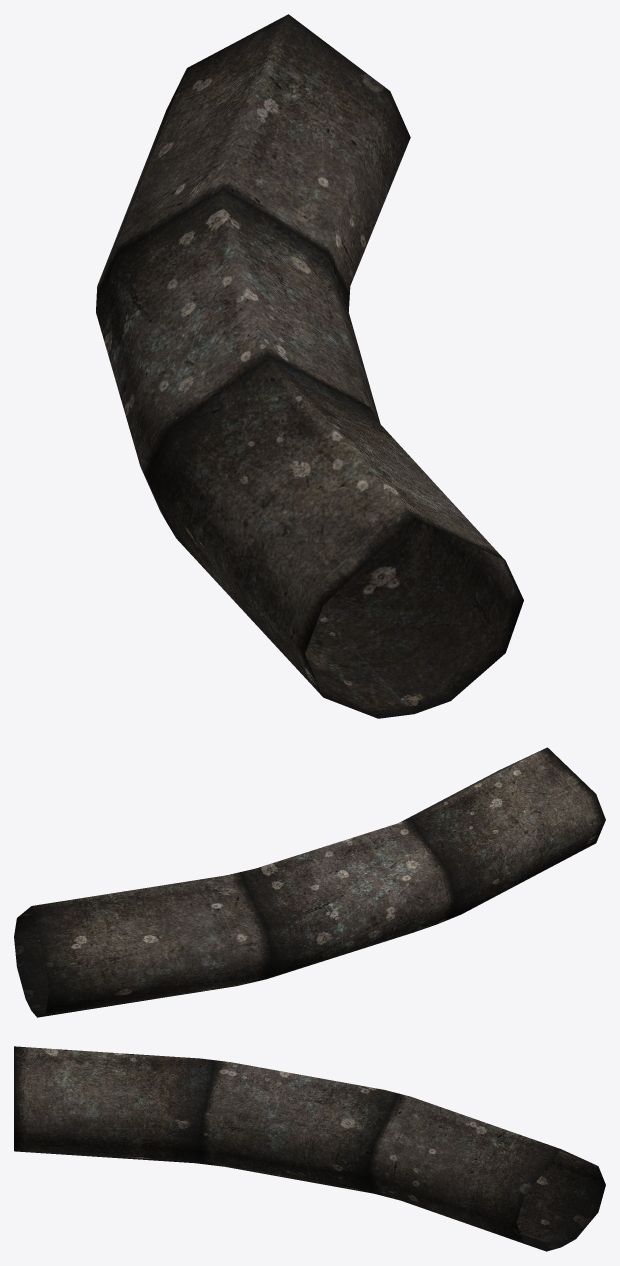
Rendered from large_45_right.dae.
The picture shows the model from 3 angles, top to bottom: view 1: azimuth 30°, elevation 25°; view 2: azimuth 150°, elevation 25°; view 3: azimuth 270°, elevation 25°; orthographic projection. The views are drawn at different scales.
Visible parts, largest first — view 1: tentacle_large_45_right; view 2: tentacle_large_45_right; view 3: tentacle_large_45_right.
Part boxes in pixels (box(x1,y1,x2,y2)): tentacle_large_45_right: box(96, 14, 523, 718); tentacle_large_45_right: box(14, 747, 605, 1017); tentacle_large_45_right: box(14, 1046, 605, 1251).
Size of the model in its own units: 1.44 by 0.4458 by 2.43.
